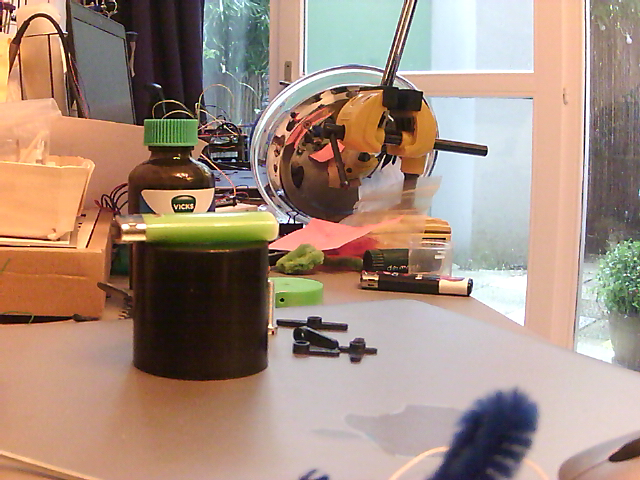bolt: (268, 282, 277, 337)
lighter: (112, 214, 282, 242)
